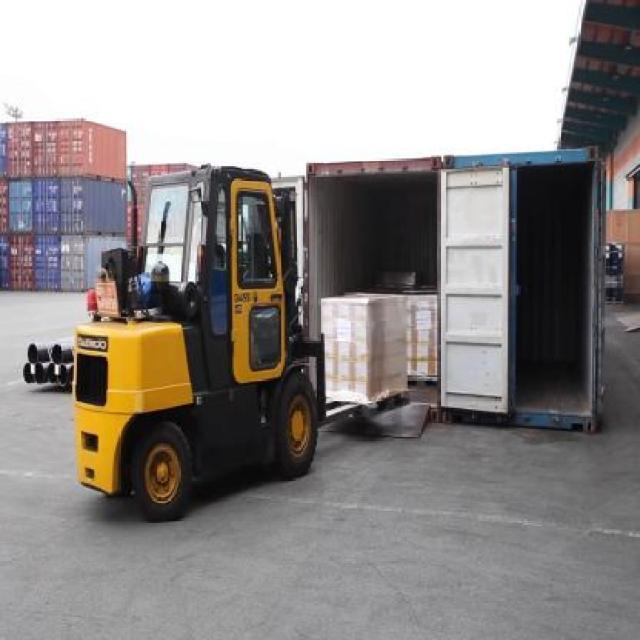forklift: (68, 170, 319, 513)
